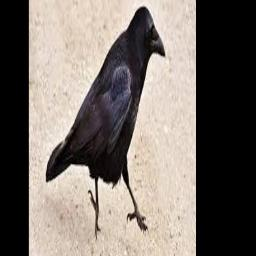Crow: (46, 5, 166, 238)
